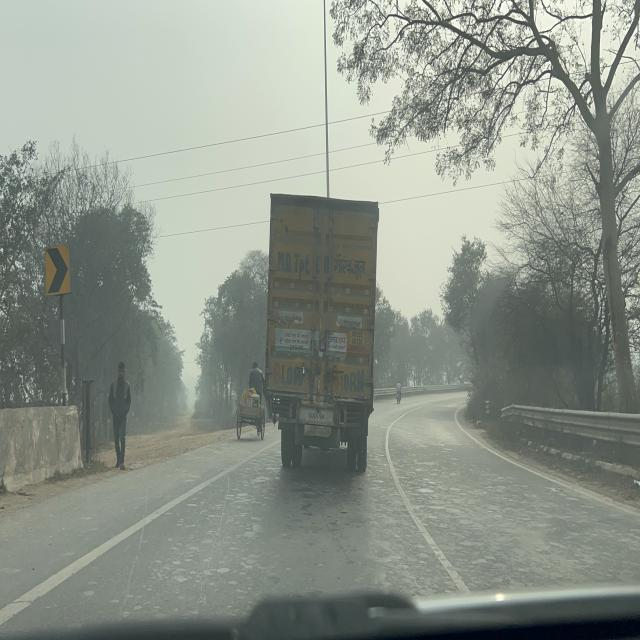TURN_RIGHT: (44, 243, 72, 297)
